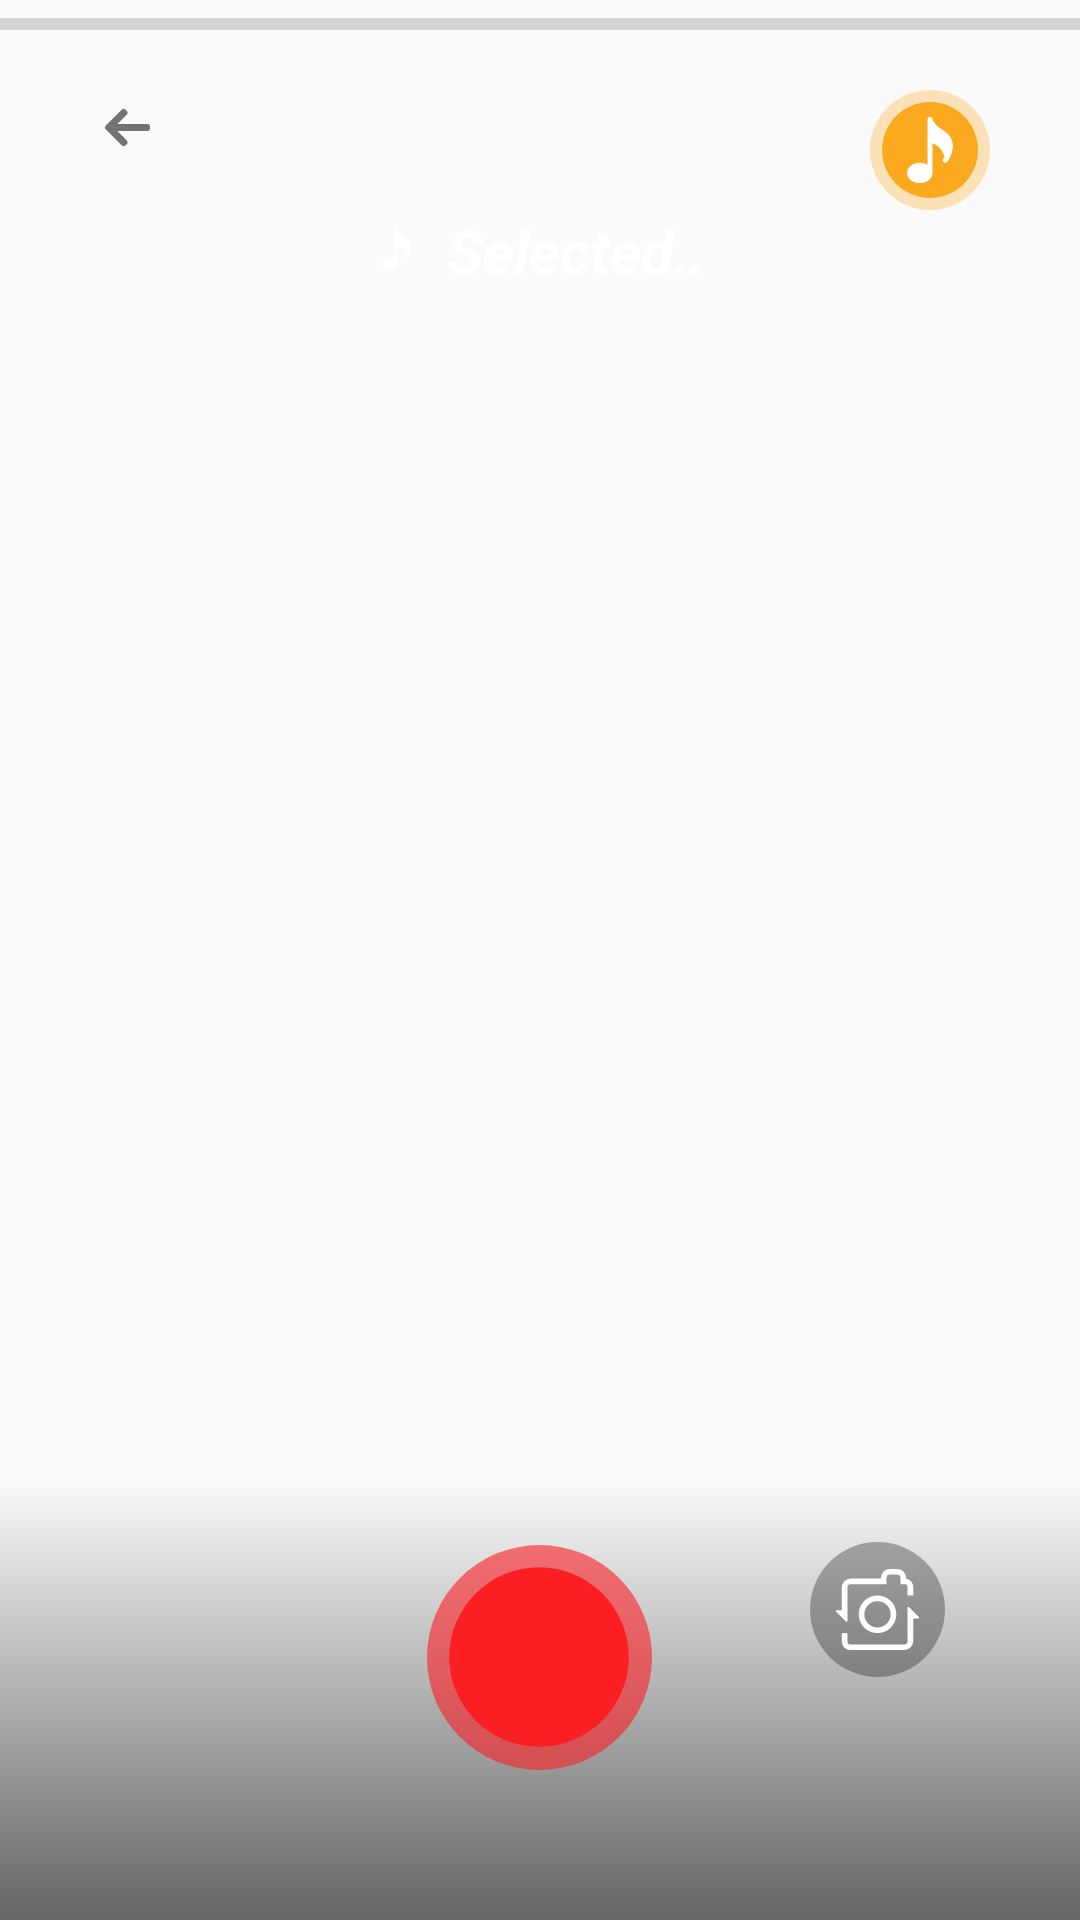

Point at icon controls on the screen. Image size 1080×1920, points as (x,y).
back: (127,127)
flip: (877,1609)
sound: (930,150)
